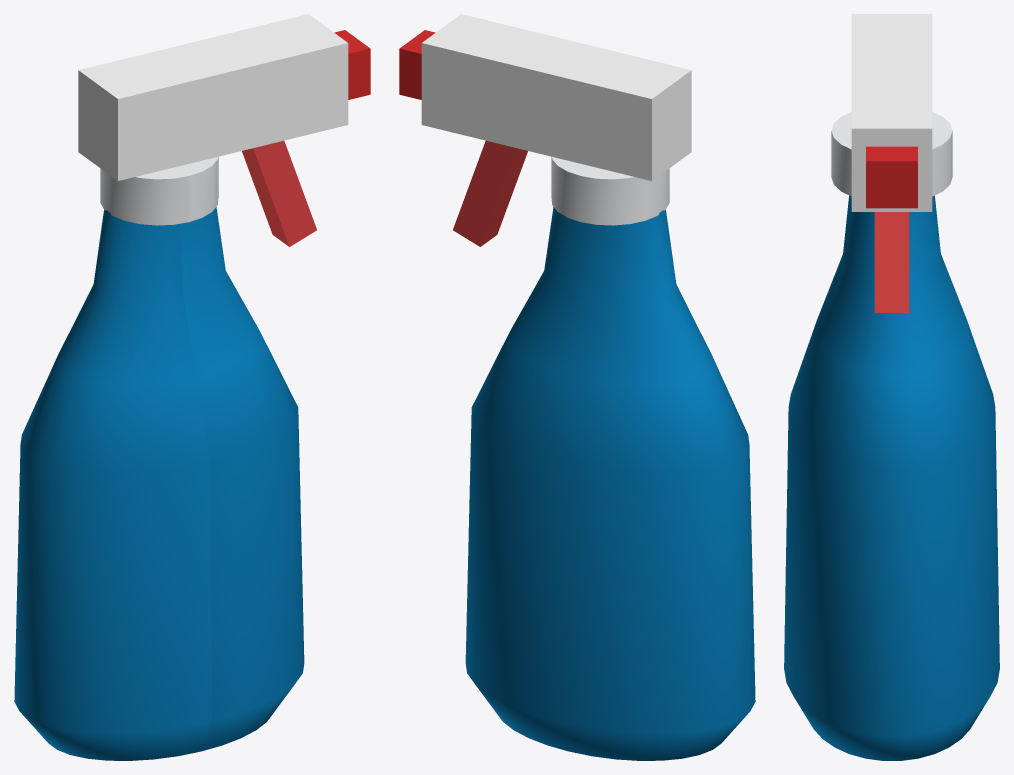
Rendered from spray-bottle.glb.
3 renders of one model, left to right at view 1: azimuth 30°, elevation 25°; view 2: azimuth 150°, elevation 25°; view 3: azimuth 270°, elevation 25°, orthographic.
Visible parts, largest first — view 1: Spray_Body, Spray_Head, Neck_Collar, Trigger_Lever, Nozzle_Tip; view 2: Spray_Body, Spray_Head, Neck_Collar, Trigger_Lever, Nozzle_Tip; view 3: Spray_Body, Spray_Head, Trigger_Lever, Nozzle_Tip, Neck_Collar.
Part boxes in pixels (x1,y1,x2,y2): Spray_Body: [14, 207, 304, 760]; Spray_Head: [78, 14, 348, 180]; Neck_Collar: [100, 156, 218, 225]; Trigger_Lever: [242, 140, 316, 246]; Nozzle_Tip: [334, 30, 370, 99]; Spray_Body: [465, 207, 755, 760]; Spray_Head: [421, 14, 691, 180]; Neck_Collar: [551, 156, 669, 225]; Trigger_Lever: [453, 140, 527, 246]; Nozzle_Tip: [399, 30, 435, 99]; Spray_Body: [784, 195, 999, 760]; Spray_Head: [851, 14, 932, 211]; Trigger_Lever: [874, 212, 909, 312]; Nozzle_Tip: [866, 146, 917, 208]; Neck_Collar: [831, 112, 952, 196].
Size of the model in its own units: 0.1359 by 0.254 by 0.0749.
